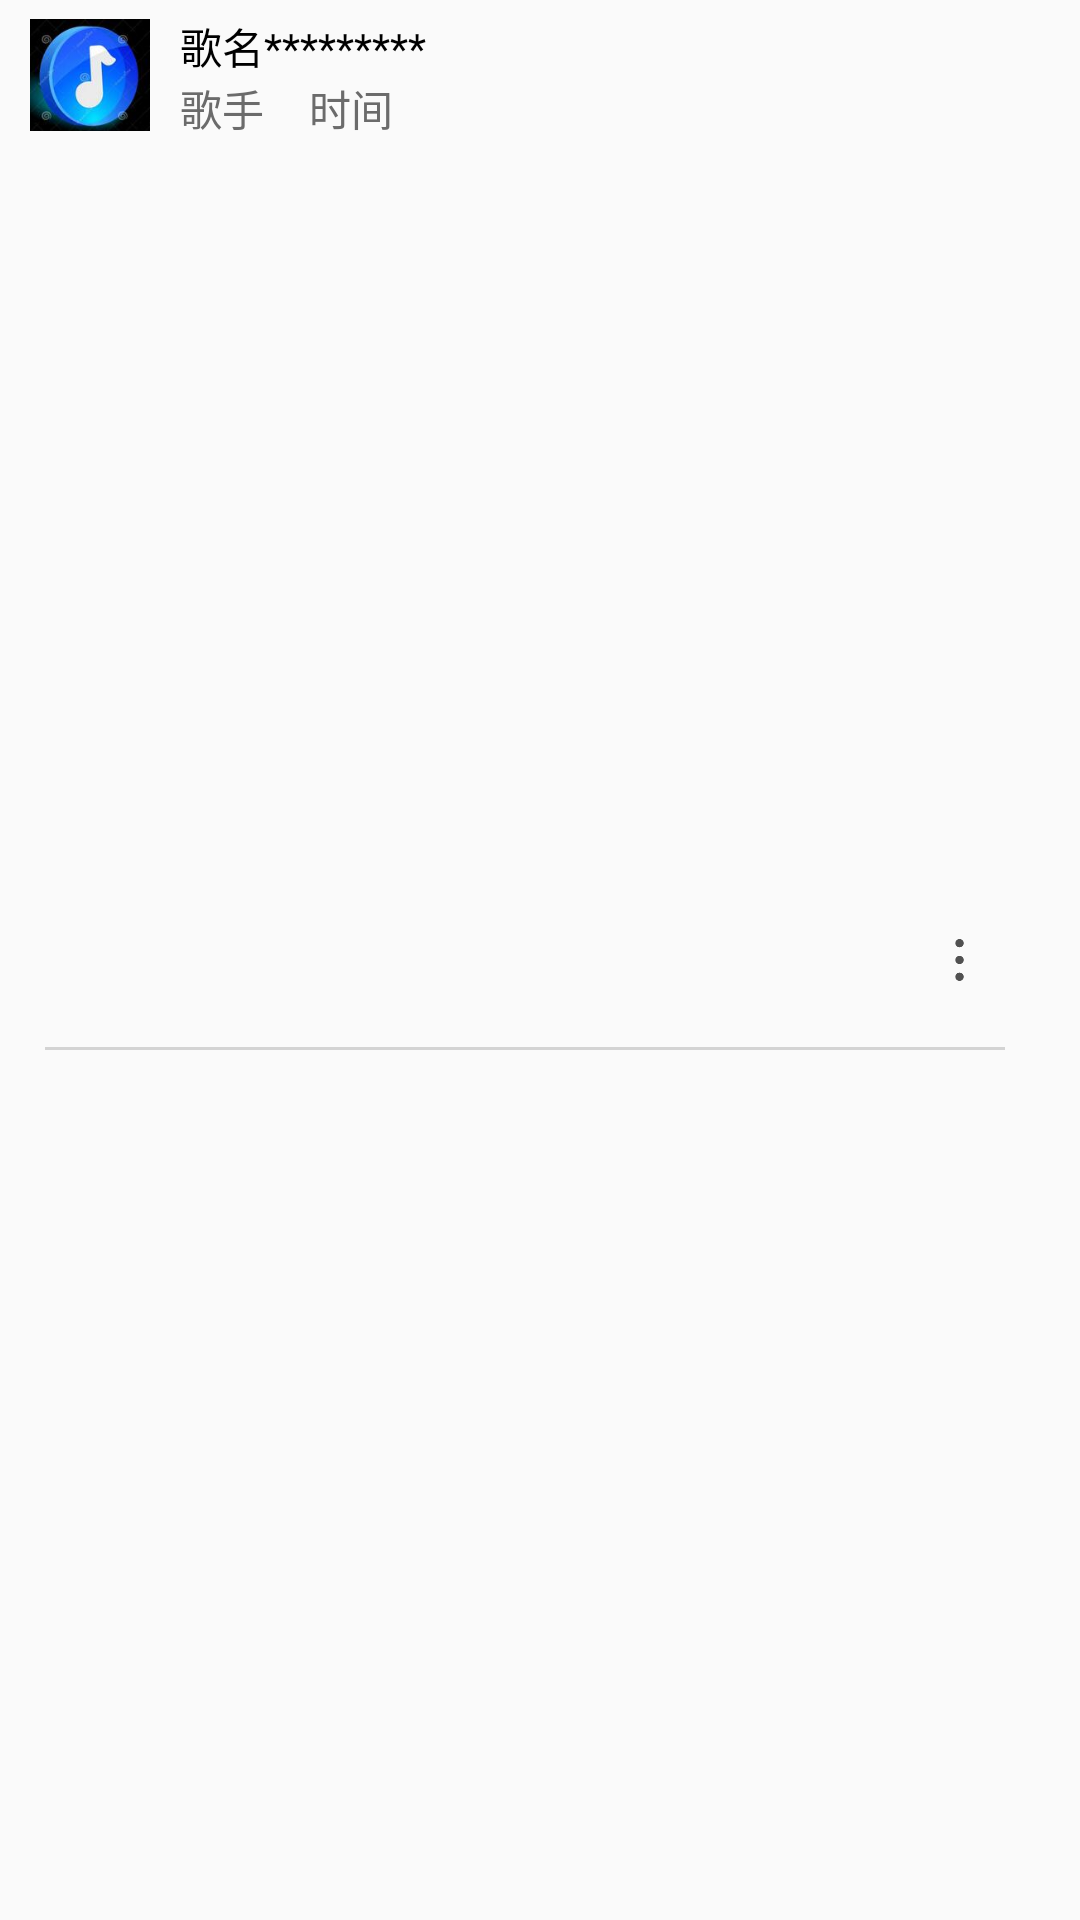

Where icons sit on this 1080x1920 app screen, as (x1, y1, x2, y2):
item details: (955, 939, 964, 981)
